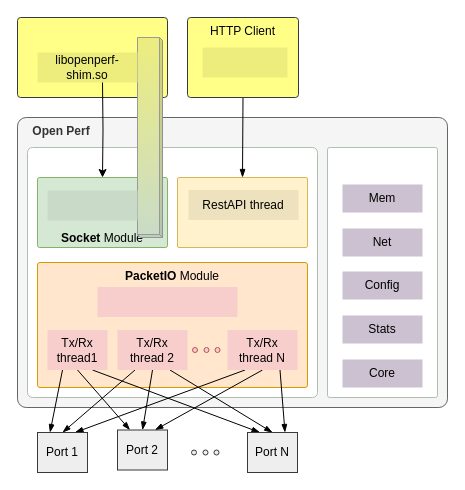
Image size: 465x490. Some labels were removed from this diagram. The box of each missing label's shape, as (x1, y1, x2, y2) in pixels:
API Module: (176, 176, 308, 248)
Framework: (326, 146, 438, 398)
Modules: (26, 146, 318, 398)
Shared Memory: (136, 36, 162, 238)
Socket Application: (16, 16, 168, 98)
swagger client: (202, 47, 287, 77)
TCP/IP Thread: (97, 286, 237, 316)
Unix Socket: (47, 190, 137, 220)
